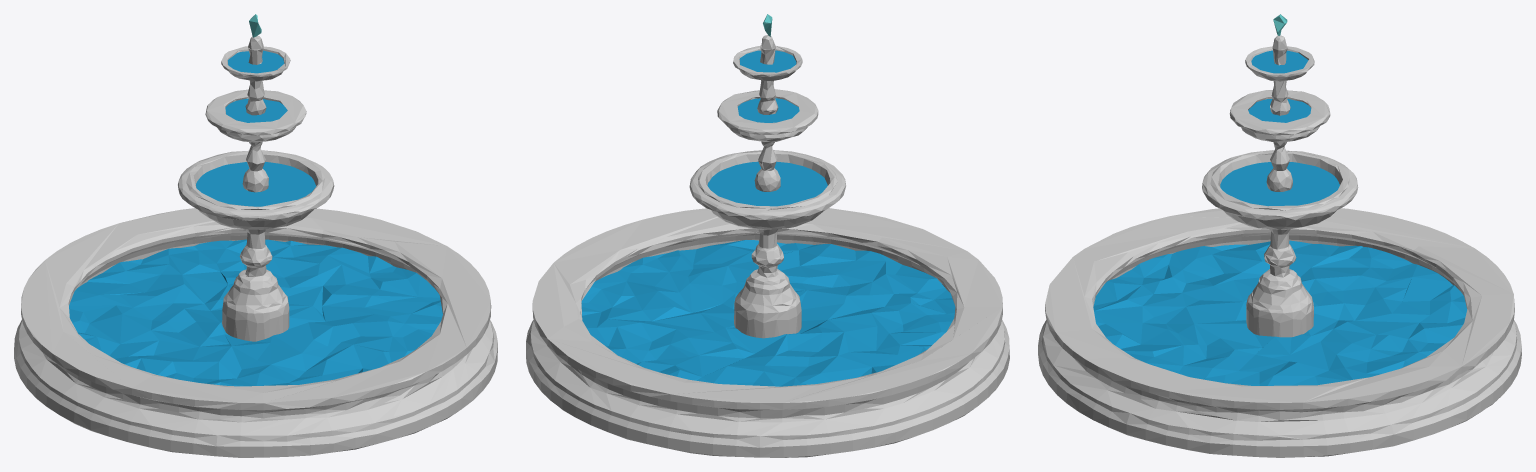
The model's file is fountain.glb.
3 renders of one model, left to right at view 1: azimuth 30°, elevation 25°; view 2: azimuth 150°, elevation 25°; view 3: azimuth 270°, elevation 25°, orthographic.
Parts seen in each view (by area): view 1: fountain_Плоскость002, water002_Окружность001; view 2: fountain_Плоскость002, water002_Окружность001; view 3: fountain_Плоскость002, water002_Окружность001.
Part boxes in pixels (x1,y1,x2,y2): fountain_Плоскость002: [14, 36, 497, 457]; water002_Окружность001: [69, 50, 442, 386]; fountain_Плоскость002: [526, 35, 1009, 457]; water002_Окружность001: [581, 50, 955, 386]; fountain_Плоскость002: [1038, 35, 1521, 457]; water002_Окружность001: [1093, 50, 1467, 385].
Bounding box in the file's own units: 2.79 × 2.19 × 2.79.
